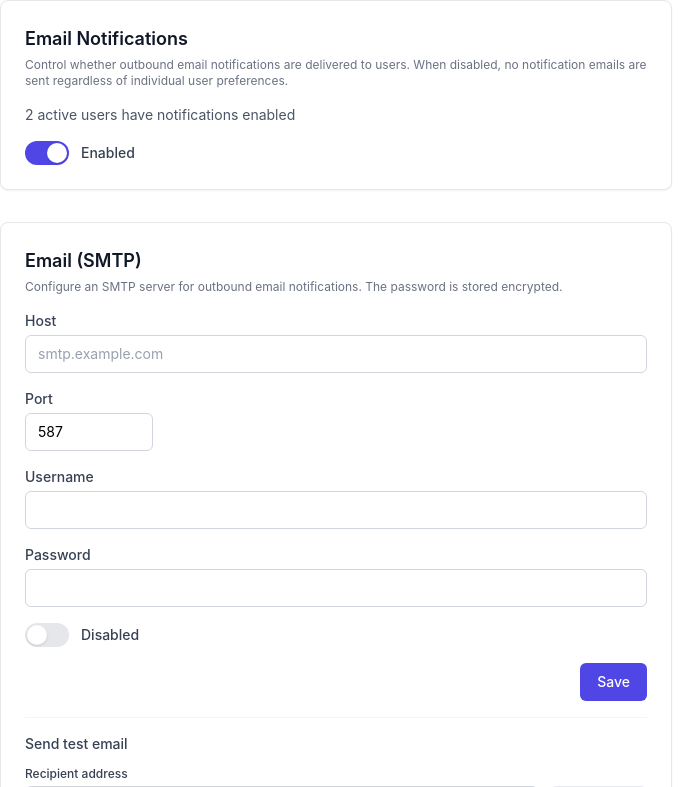
it: NotificationSettings — SMTP section › shows error when SMTP save fails
The image size is (689, 787).
Click the button with test id "smtp-save-button" at (614, 682), box [580, 663, 647, 701]
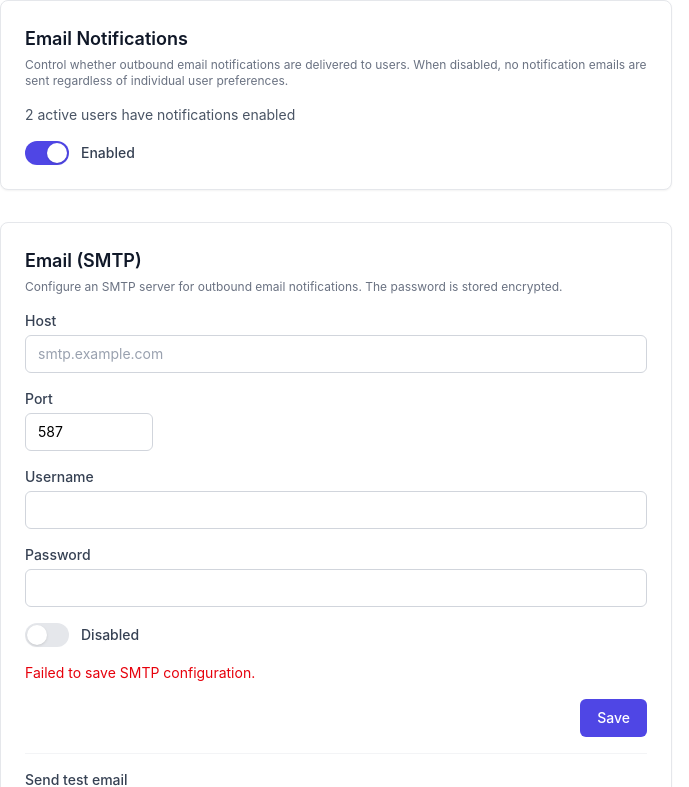
Result: the message "Failed to save SMTP configuration." is shown at [25, 664, 255, 681]
